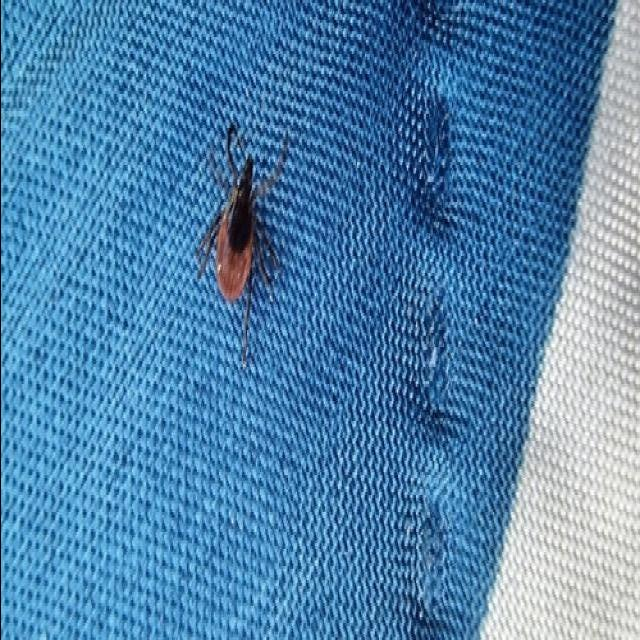Ixodes Ricinus-F: (195, 125, 289, 367)
